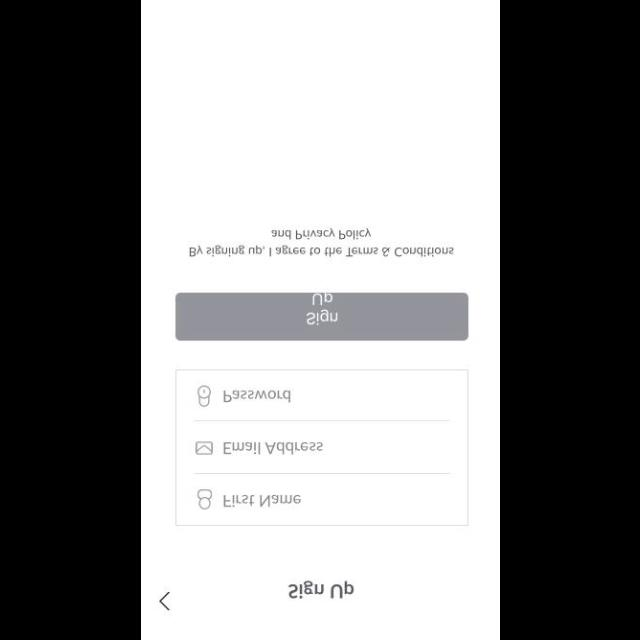icon: (198, 488, 212, 508), (198, 384, 210, 406), (195, 441, 212, 454), (159, 591, 169, 609)
input: (176, 420, 468, 472), (176, 472, 468, 524), (176, 368, 468, 419)
text: (189, 228, 453, 258), (288, 580, 354, 598), (224, 442, 322, 454), (223, 494, 300, 506), (223, 390, 290, 400)
textbutton: (176, 292, 468, 340)
